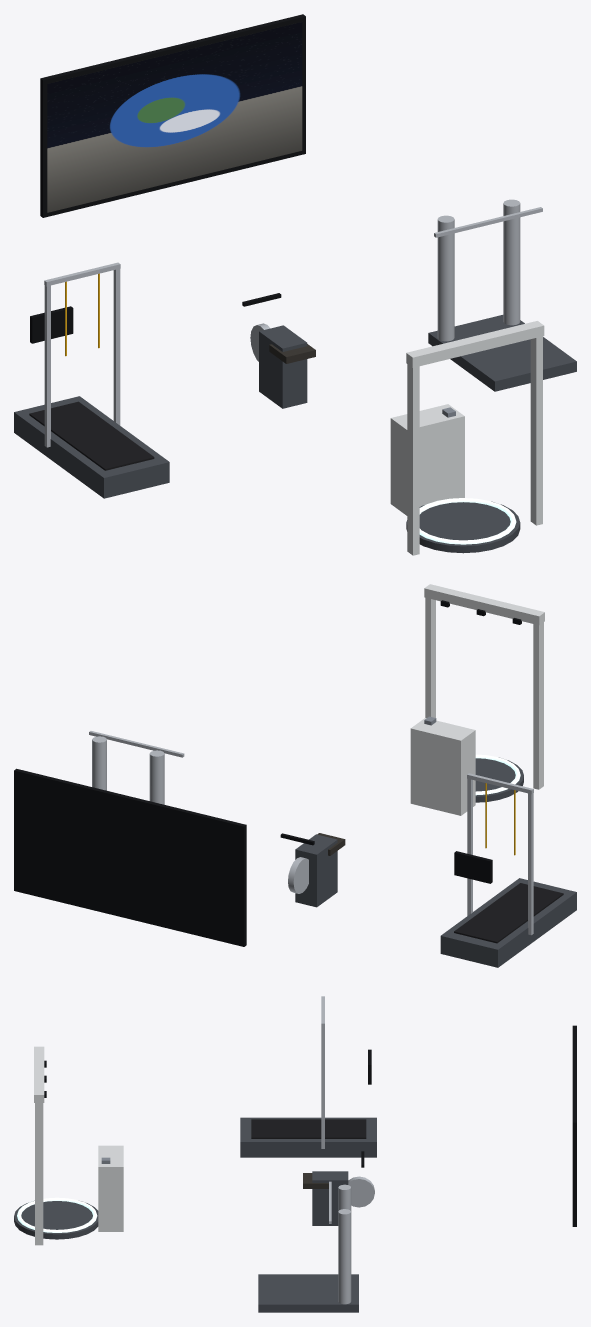
The model's file is exercise_bay.glb.
3 views of the same model, one above another, from view 1: azimuth 30°, elevation 25°; view 2: azimuth 150°, elevation 25°; view 3: azimuth 270°, elevation 25° (orthographic). The views are drawn at different scales.
Visible parts, largest first — view 1: dark_metal, _MeshInstance3D_680, dock_ring; view 2: dark_metal; view 3: dark_metal, dock_ring.
Boxes of the visible parts, box(x1,y1,x2,y2) form: dark_metal: box(14, 14, 576, 555); _MeshInstance3D_680: box(47, 22, 302, 212); dock_ring: box(419, 498, 516, 544); dark_metal: box(14, 584, 576, 967); dark_metal: box(14, 996, 576, 1312); dock_ring: box(17, 1197, 97, 1232).
Size of the model in its own units: 6.1 by 2.55 by 7.83.
Materials: 4 (4 with a texture image).
